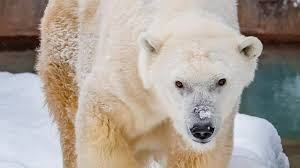PolarBear: (38, 0, 270, 167)
